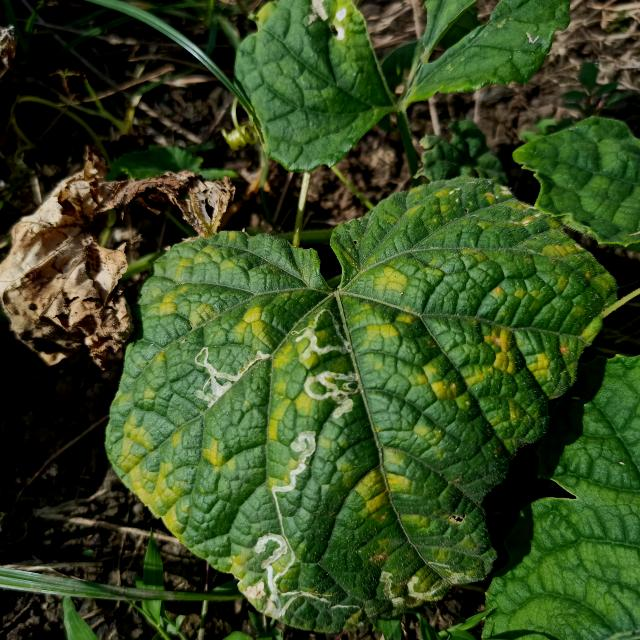disease_cucumber: (119, 169, 582, 618)
